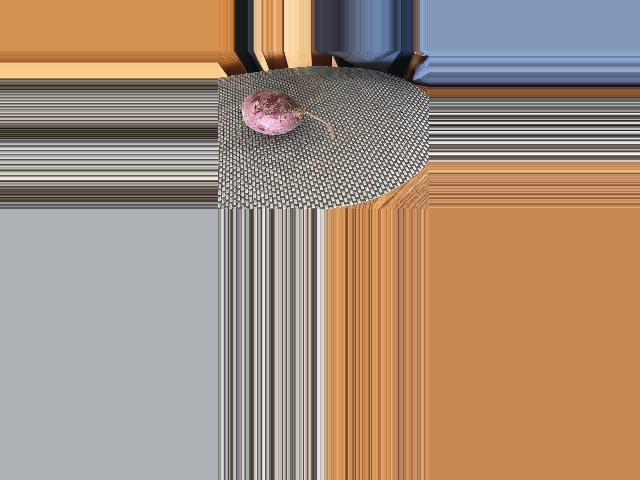beet: (242, 89, 333, 140)
